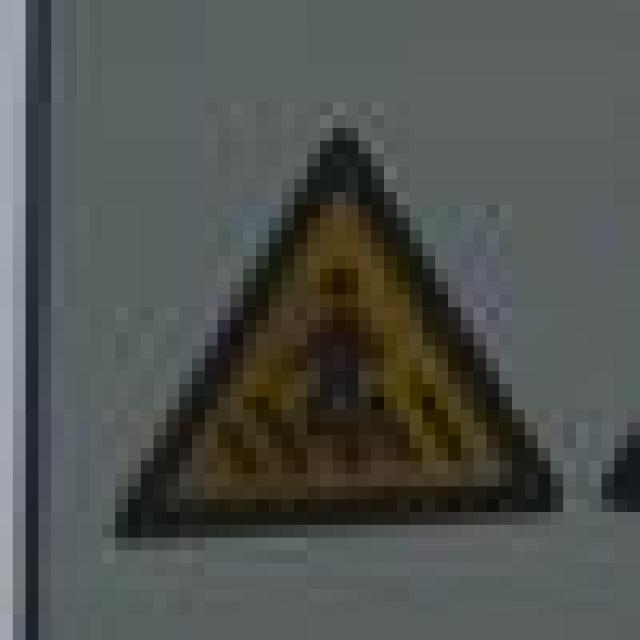PEDESTRIAN_CROSSING: (90, 90, 563, 512)
